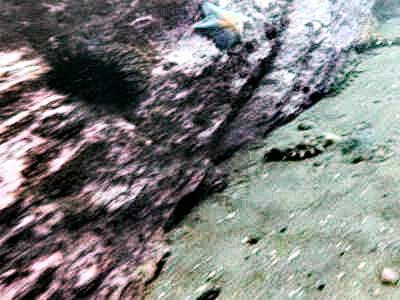urchin: (42, 48, 138, 108)
